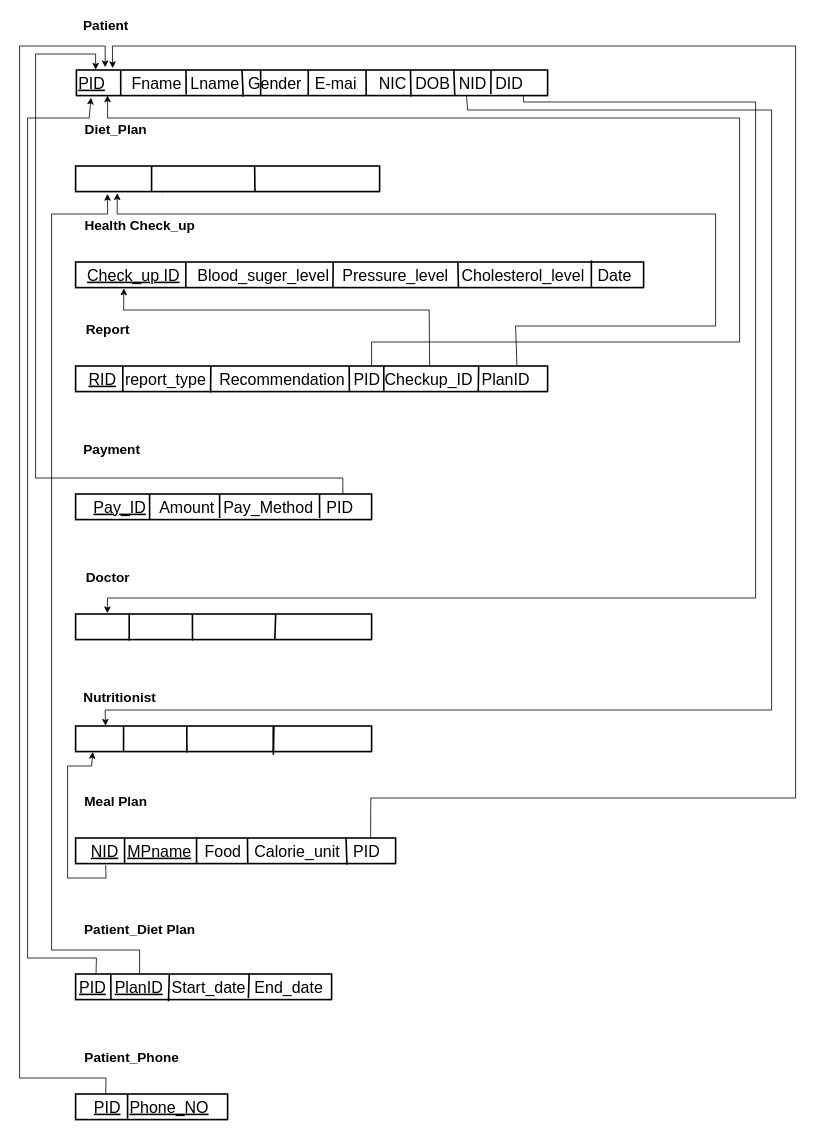
Image size: 816x1134. Some labels were removed from this diagram. Here are the shapes that lost their labels. From the top down, the centre of each, then its label:
At [227,178]: "PlanID Plan_name Calorie_goal".
At [223,626]: "DID Dname Speciality Phone_no".
At [223,738]: "NID Nname Phone_no Experience".
